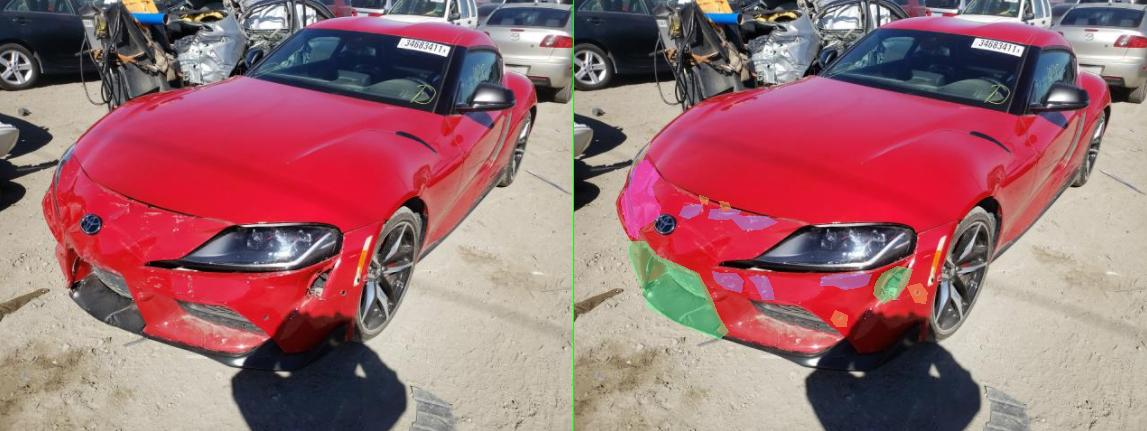Broken part: (108, 241, 308, 339), (599, 266, 677, 303)
Dent: (94, 159, 172, 238)
Paint chip: (114, 142, 152, 223), (667, 283, 707, 303), (512, 310, 546, 326), (290, 201, 314, 211), (250, 195, 268, 204)
Scratch: (492, 273, 595, 289), (306, 214, 406, 229), (276, 271, 338, 292), (348, 275, 400, 299), (268, 208, 332, 219), (210, 204, 256, 218)
